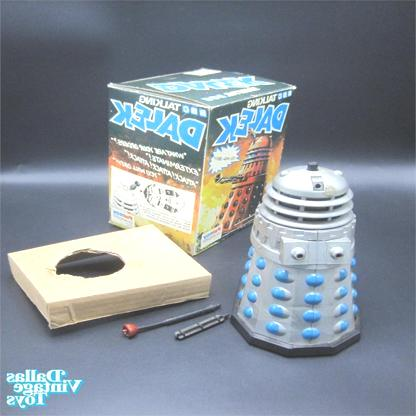dalek: (218, 157, 379, 354)
